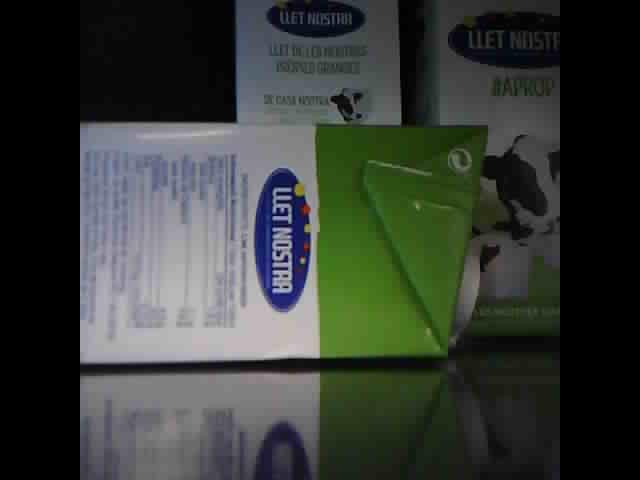leche: (79, 120, 489, 369), (417, 3, 558, 336), (237, 2, 404, 124)
